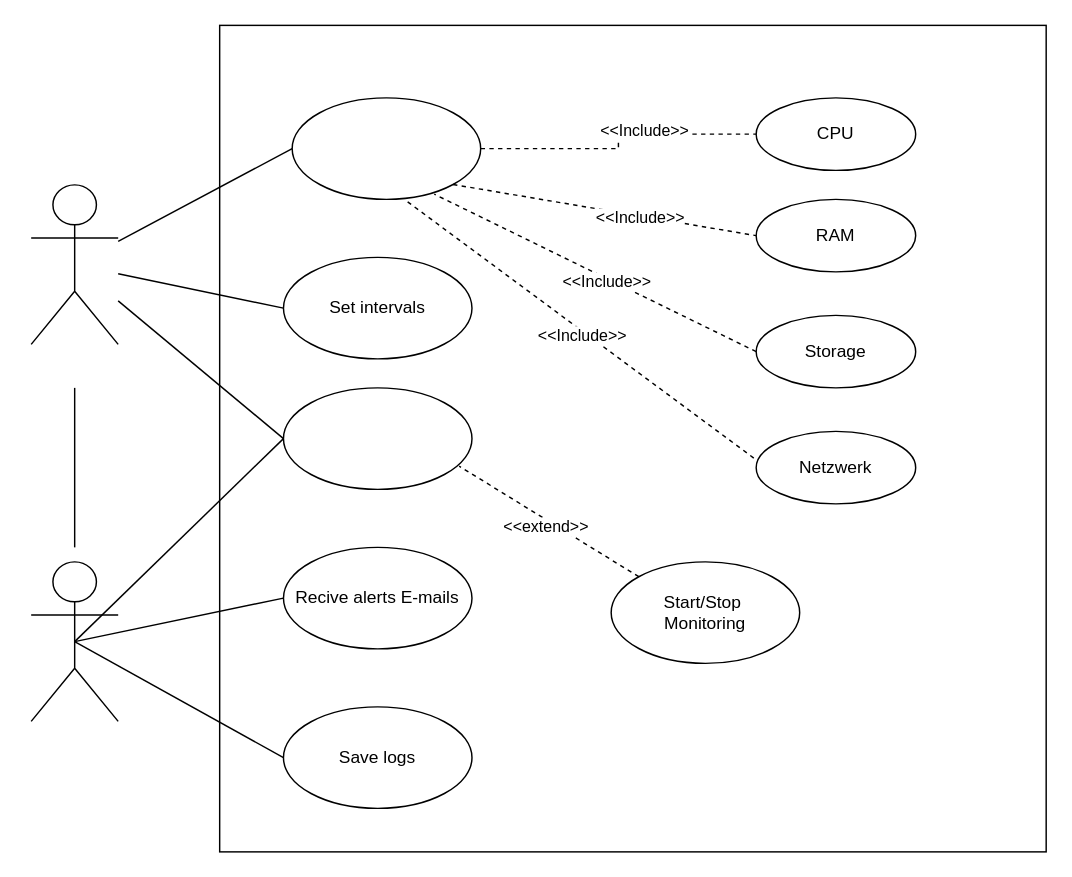
The diagram is 1072 pixels wide and 877 high, and some of its shapes have lost their labels. Here are the shapes that lost their labels. From the top down, the box of each, then its label:
(291, 96, 481, 199): Hardware check
(30, 183, 118, 344): Adminstrator
(282, 386, 472, 489): View Server status
(30, 560, 118, 721): Anwender
